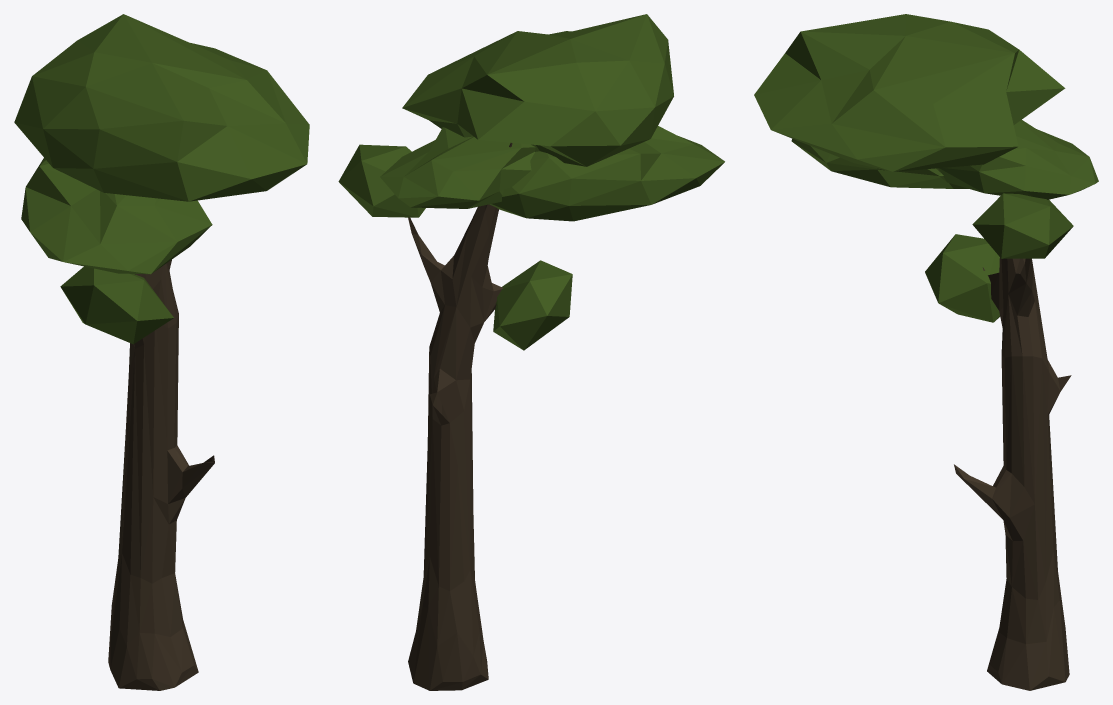
The model's file is SM_tree_b_04.fbx.
The picture shows the model from 3 angles, left to right: view 1: azimuth 30°, elevation 25°; view 2: azimuth 150°, elevation 25°; view 3: azimuth 270°, elevation 25°; orthographic projection. The views are drawn at different scales.
Visible parts, largest first — view 1: Object188; view 2: Object188; view 3: Object188.
Boxes of the visible parts, x1,y1,x2,y2 form: Object188: (14,14,309,690); Object188: (338,14,724,690); Object188: (754,14,1098,690).
Size of the model in its own units: 152 by 162 by 316.
